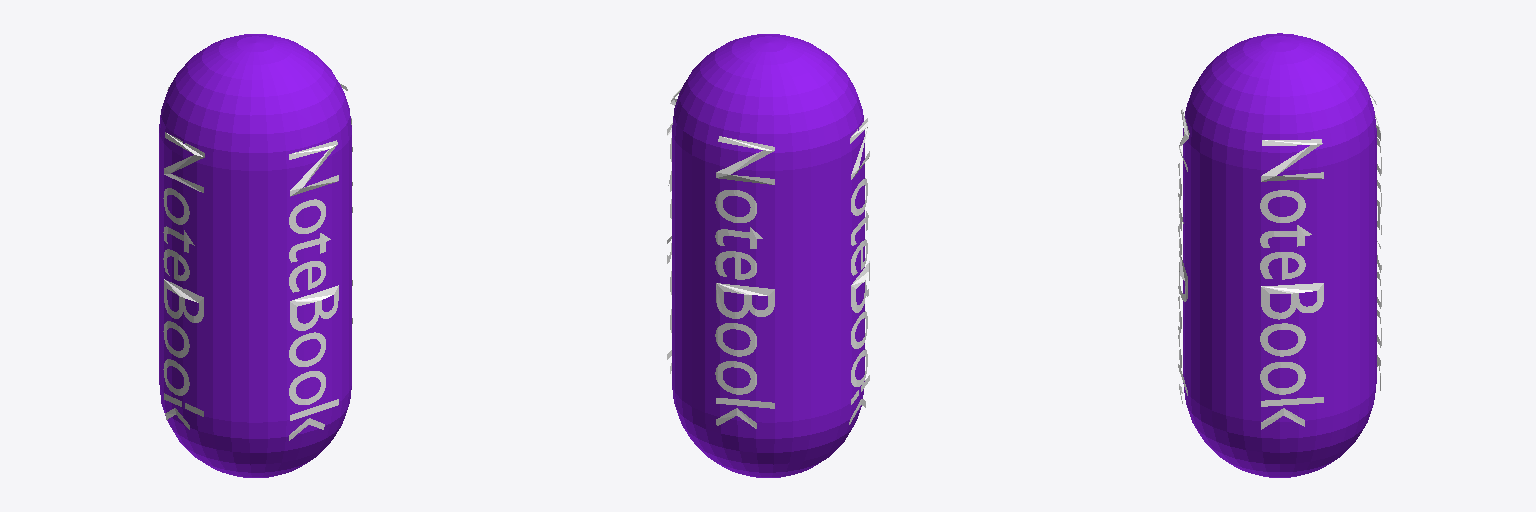
The model's file is notebook2.obj.
The picture shows the model from 3 angles: view 1: azimuth 30°, elevation 25°; view 2: azimuth 150°, elevation 25°; view 3: azimuth 270°, elevation 25°; orthographic projection.
Parts seen in each view (by area): view 1: Sphere, Text.003, Text.002; view 2: Sphere, Text.001, Text.002; view 3: Sphere, Text, Text.003.
Part boxes in pixels (left/top/right/bottom): Sphere: left=159, top=34, right=351, bottom=477; Text.003: left=289, top=140, right=338, bottom=440; Text.002: left=163, top=132, right=204, bottom=429; Sphere: left=672, top=34, right=864, bottom=477; Text.001: left=715, top=136, right=774, bottom=428; Text.002: left=849, top=118, right=869, bottom=424; Sphere: left=1183, top=33, right=1376, bottom=477; Text: left=1260, top=139, right=1323, bottom=429; Text.003: left=1178, top=109, right=1189, bottom=403.
Size of the model in its own units: 2.11 by 4.87 by 2.1.